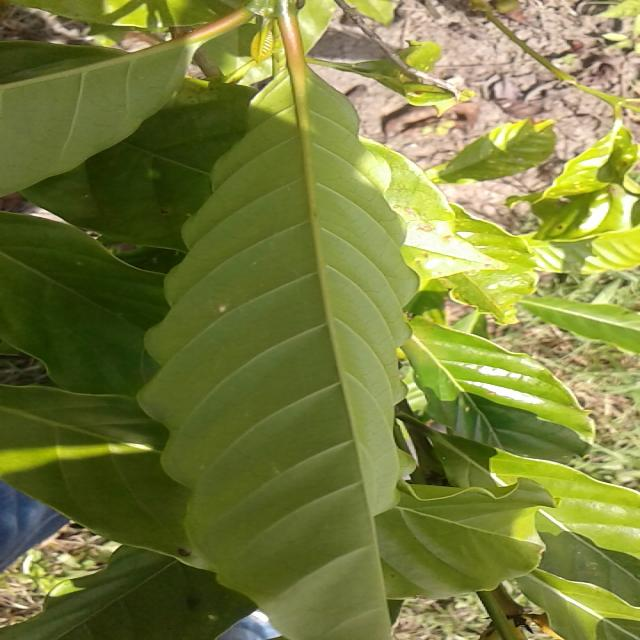Sanas: (137, 0, 420, 640)
